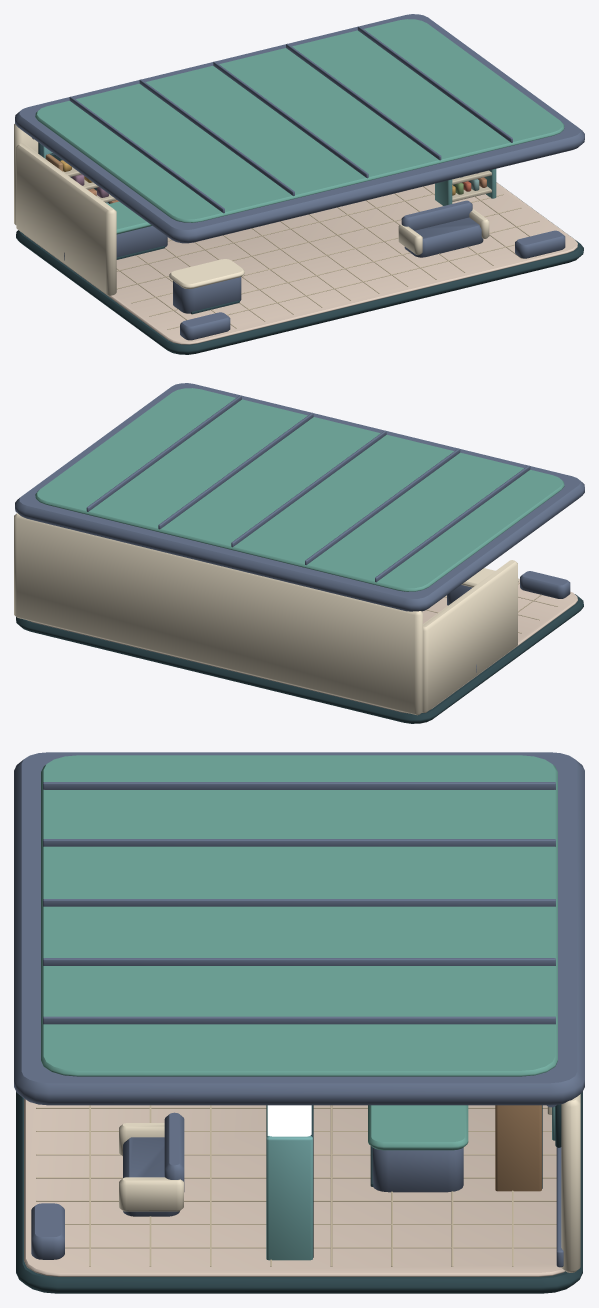
Rendered from mall.glb.
3 renders of one model, top to bottom at view 1: azimuth 30°, elevation 25°; view 2: azimuth 150°, elevation 25°; view 3: azimuth 270°, elevation 25°, orthographic. The views are drawn at different scales.
Visible parts, largest first — view 1: Roof, Room; view 2: Roof, Room; view 3: Roof, Room.
Boxes of the visible parts, box(x1,y1,x2,y2) form: Roof: box(15, 14, 584, 243); Room: box(14, 124, 583, 354); Roof: box(15, 383, 584, 611); Room: box(14, 513, 583, 723); Roof: box(14, 752, 584, 1105); Room: box(16, 1092, 582, 1293).
Bounding box in the file's own units: 11.5 × 3.48 × 8.18.
